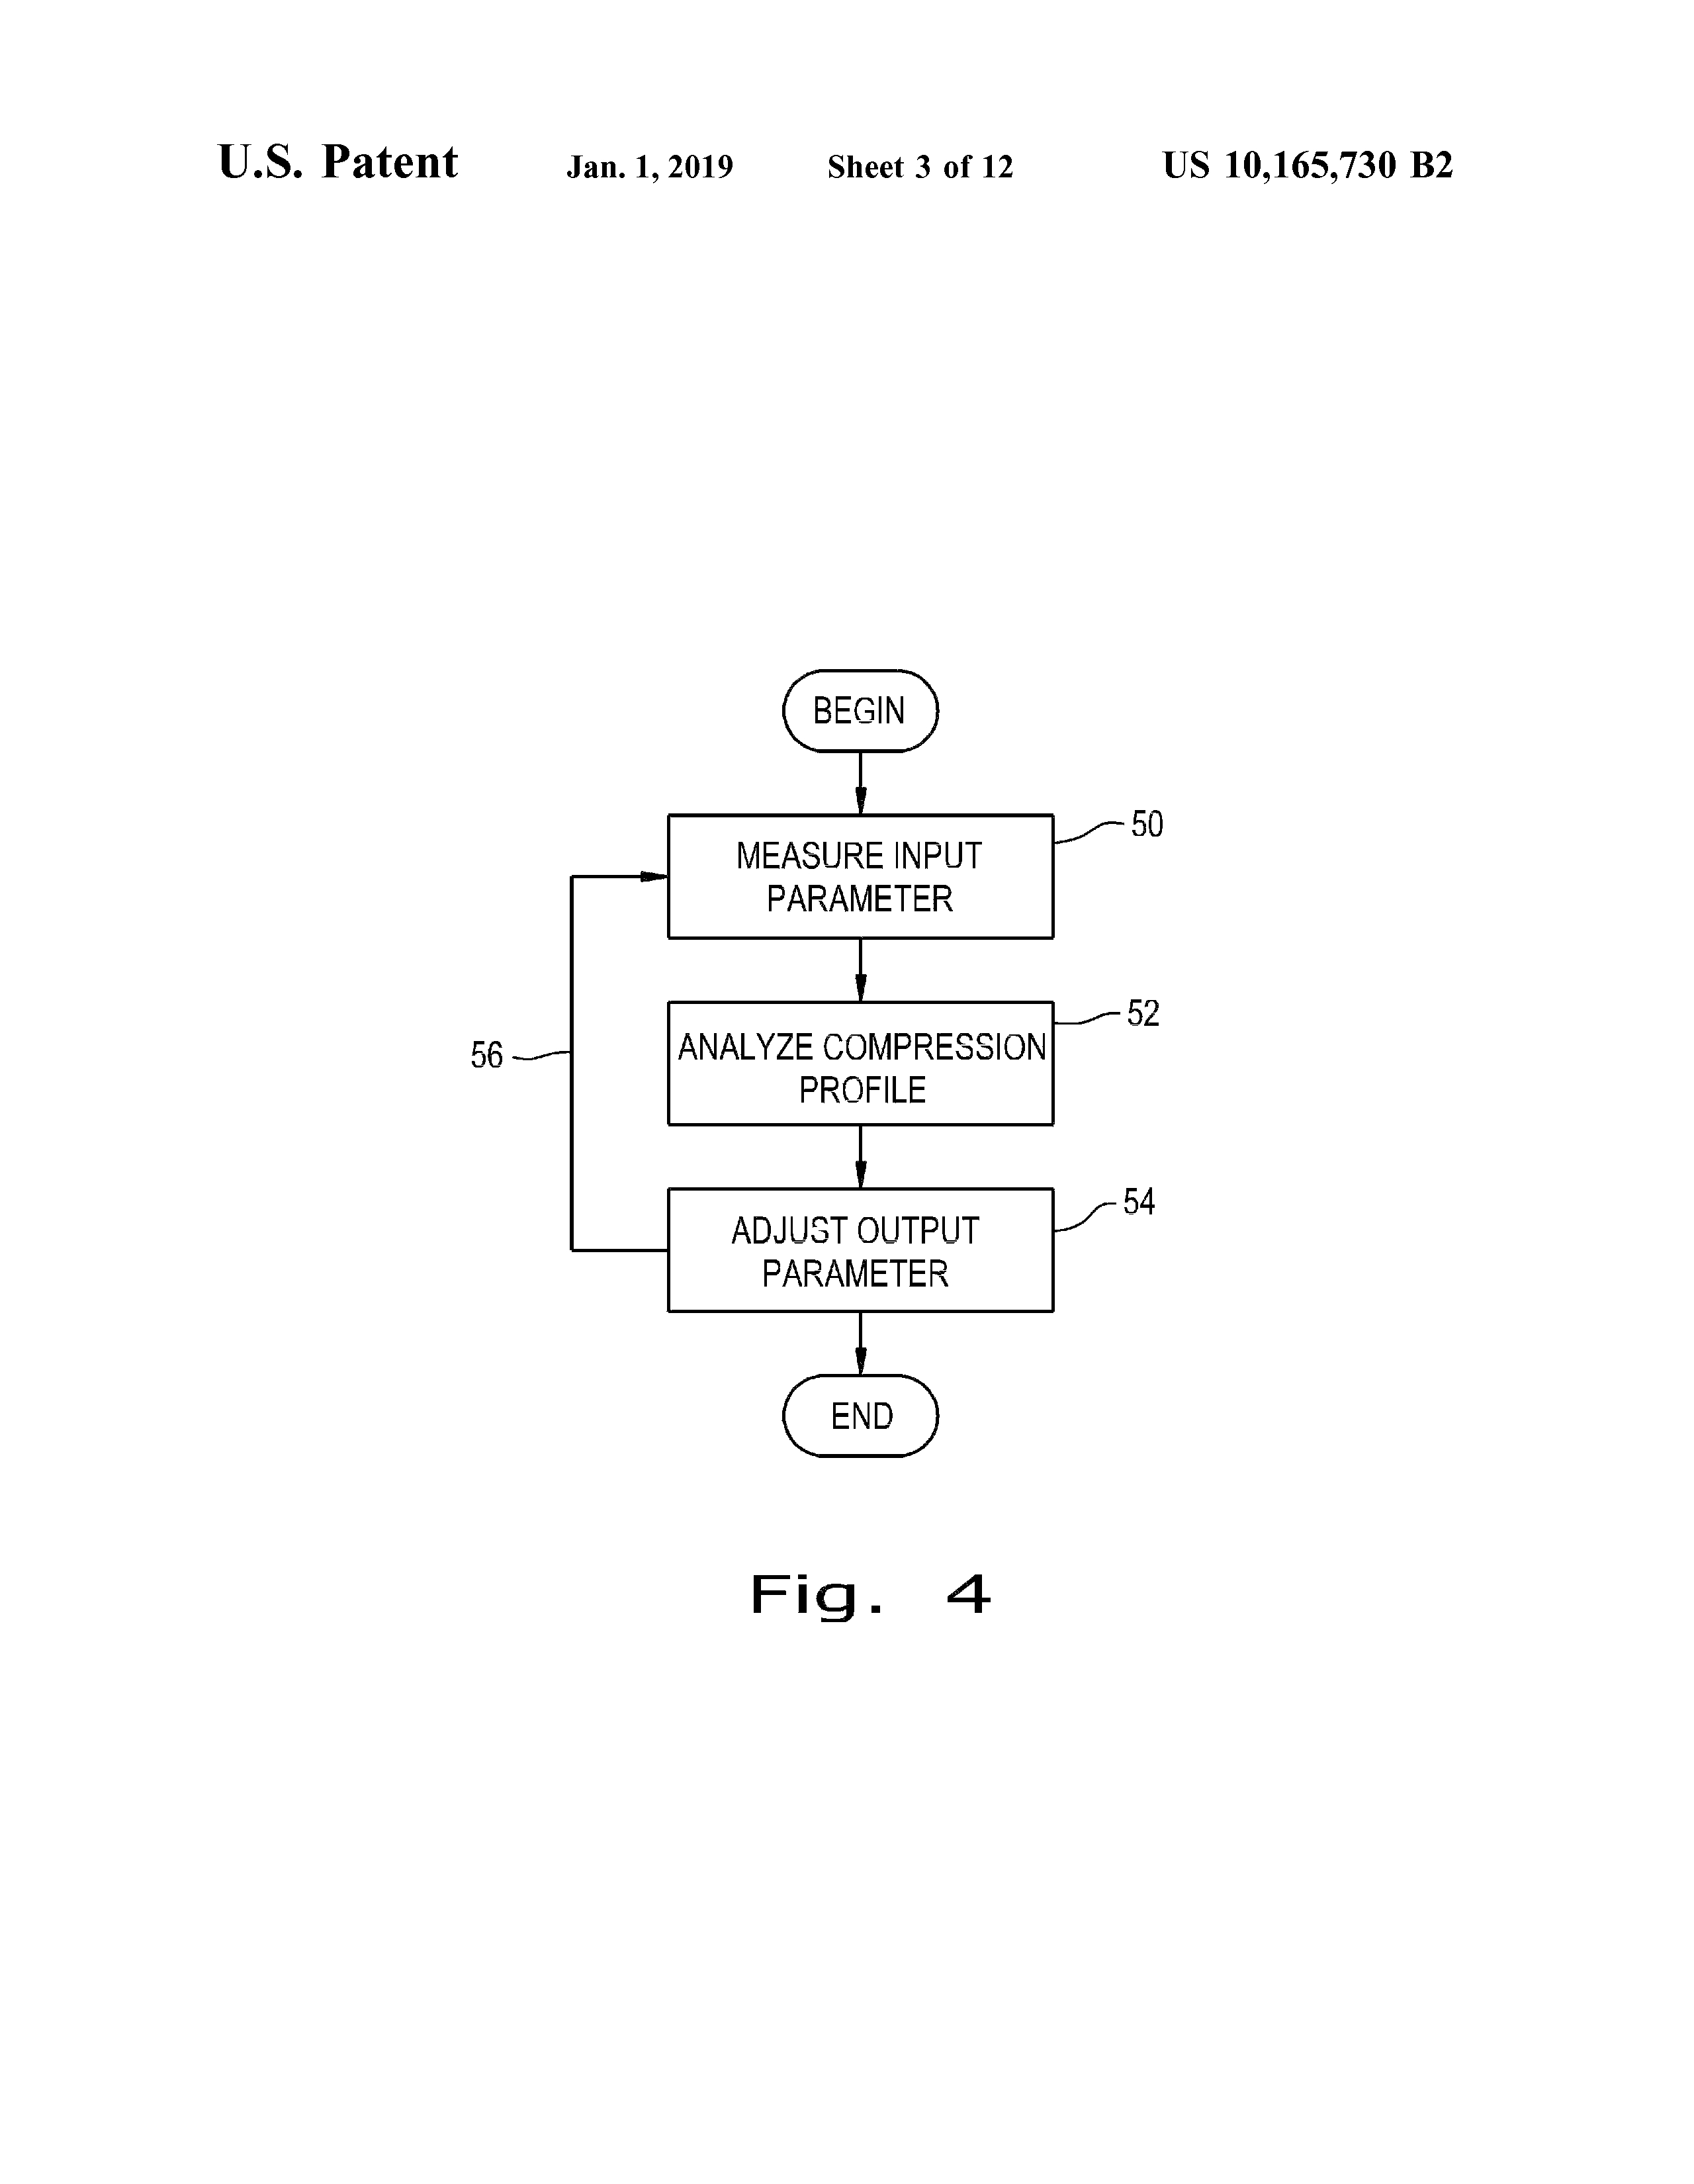patent image: (445, 584, 1231, 1700)
